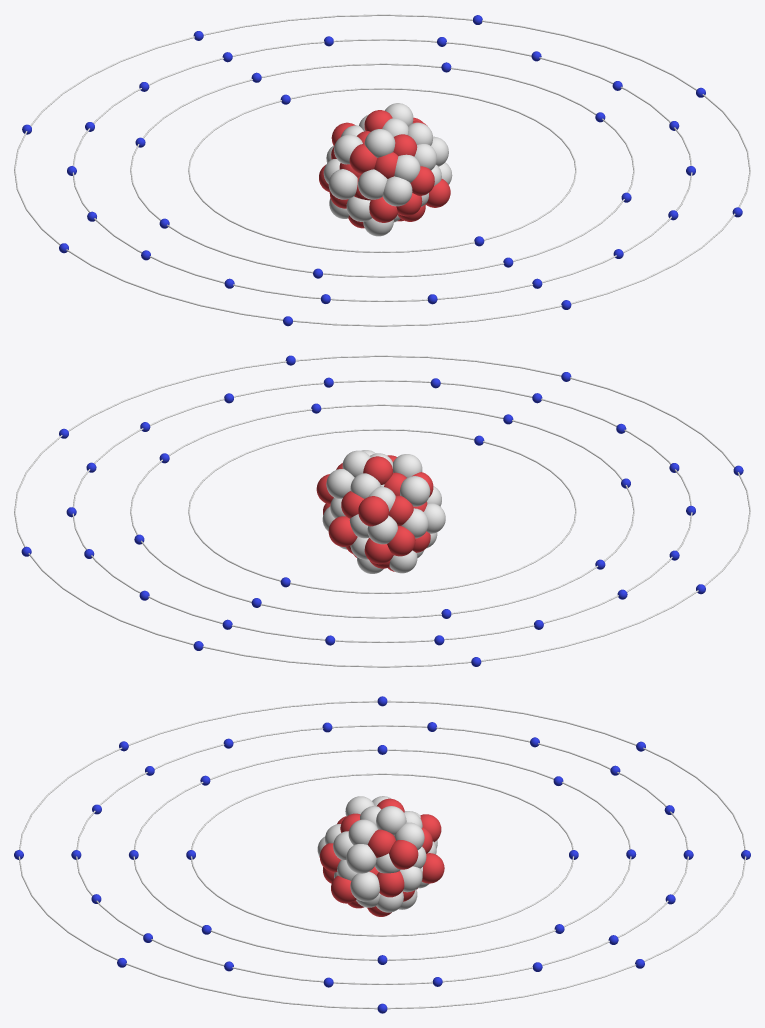
File: Krypton.glb
3 views of the same model, one above another, from view 1: azimuth 30°, elevation 25°; view 2: azimuth 150°, elevation 25°; view 3: azimuth 270°, elevation 25° (orthographic).
Visible parts, largest first — view 1: N-Schale, M-Schale, L-Schale, K-Schale, Neutron 44, Neutron 42, Neutron 40, Neutron 37, Proton 28, Neutron 38, Neutron 35, Proton 24; view 2: N-Schale, M-Schale, L-Schale, K-Schale, Proton 34, Neutron 35, Proton 18, Neutron 36, Proton 4, Neutron 8, Proton 35, Neutron 37 (+1 smaller); view 3: N-Schale, M-Schale, L-Schale, K-Schale, Neutron 48, Neutron 43, Proton 29, Neutron 46, Proton 31, Neutron 47, Proton 18, Proton 26.
Part boxes in pixels (x1,y1,x2,y2): N-Schale: [14, 14, 750, 326]; M-Schale: [72, 39, 692, 301]; L-Schale: [130, 63, 634, 277]; K-Schale: [188, 88, 576, 252]; Neutron 44: [328, 169, 357, 199]; Neutron 42: [382, 176, 412, 206]; Neutron 40: [358, 169, 387, 199]; Neutron 37: [364, 129, 395, 157]; Proton 28: [349, 143, 376, 174]; Neutron 38: [394, 154, 420, 182]; Neutron 35: [334, 134, 362, 164]; Proton 24: [369, 197, 397, 222]; N-Schale: [14, 355, 750, 667]; M-Schale: [72, 380, 692, 642]; L-Schale: [130, 404, 634, 618]; K-Schale: [188, 429, 576, 593]; Proton 34: [358, 496, 388, 526]; Neutron 35: [400, 476, 430, 506]; Proton 18: [328, 516, 357, 546]; Neutron 36: [326, 469, 354, 498]; Proton 4: [387, 526, 415, 556]; Neutron 8: [367, 515, 397, 544]; Proton 35: [363, 456, 392, 484]; Neutron 37: [393, 454, 422, 477]; N-Schale: [18, 700, 746, 1009]; M-Schale: [76, 725, 688, 984]; L-Schale: [133, 749, 631, 960]; K-Schale: [190, 773, 574, 936]; Neutron 48: [350, 871, 379, 901]; Neutron 43: [346, 844, 376, 873]; Proton 29: [389, 840, 418, 869]; Neutron 46: [376, 806, 406, 835]; Proton 31: [376, 871, 404, 897]; Neutron 47: [348, 819, 377, 845]; Proton 18: [422, 853, 444, 883]; Proton 26: [367, 829, 395, 857].
Bounding box in the file's own units: 19.26 × 3.19 × 19.26.
